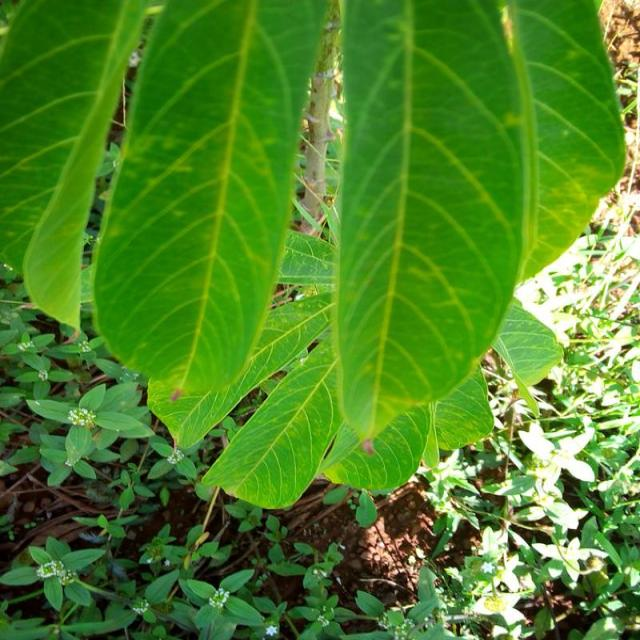cassava leaf: (2, 0, 628, 510), (90, 0, 329, 415), (331, 0, 540, 450), (1, 0, 150, 333)
